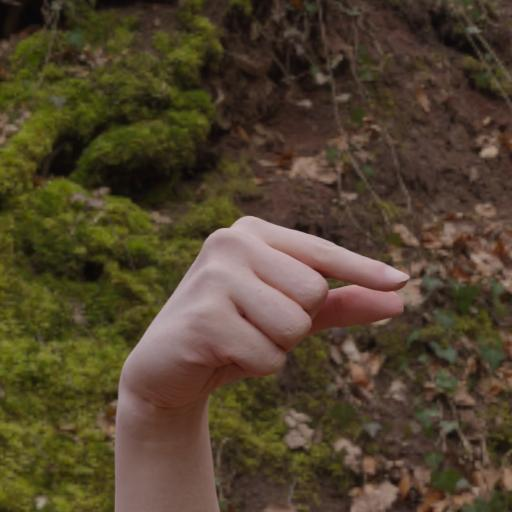G: (96, 205, 414, 445)
